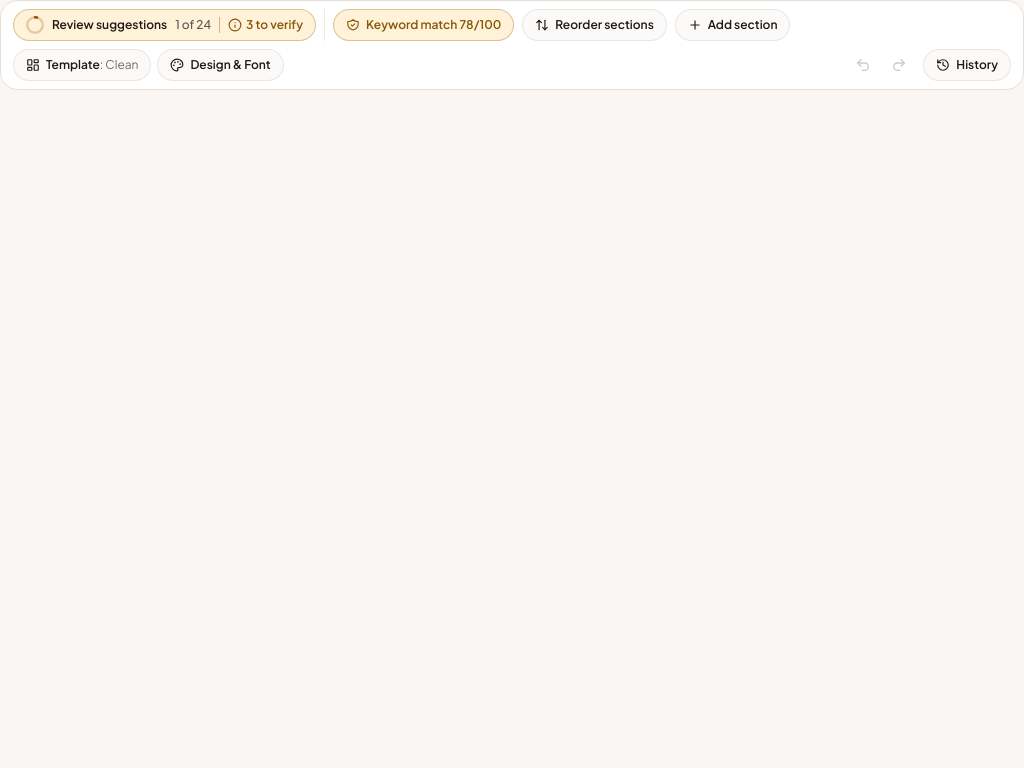
Scenario: EditorToolbar › once scored › opens the details instead of running the score again
Click the button "Keyword match 78/100" at (424, 25), box 333,9 -> 514,41
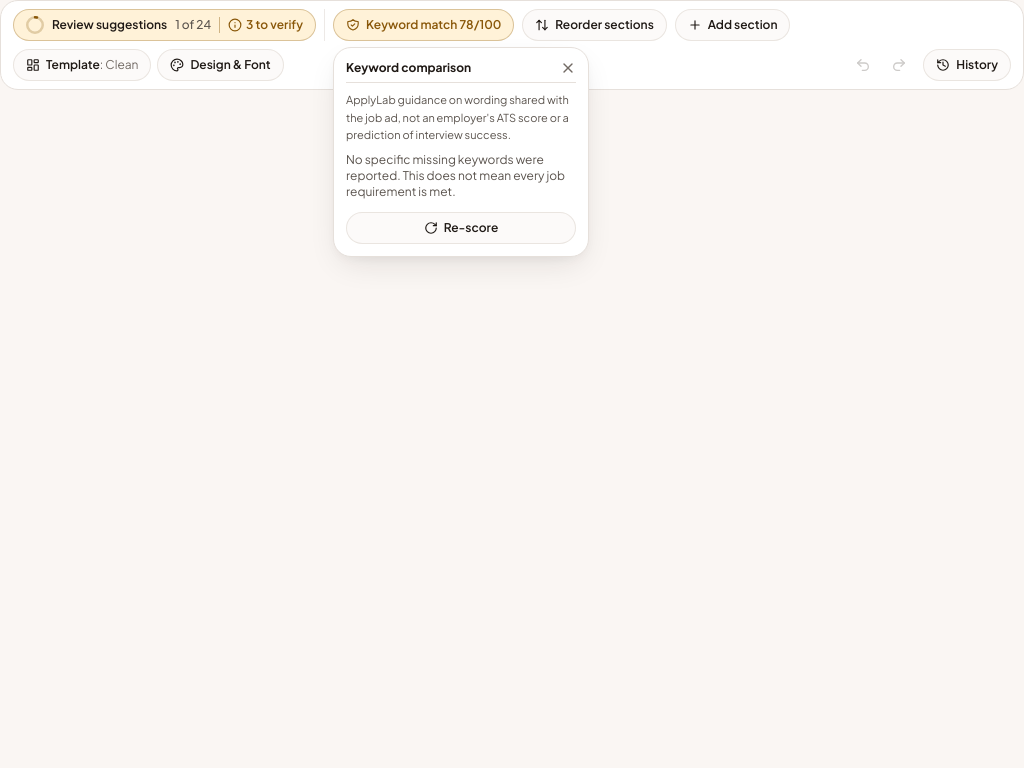
expect the dialog "Keyword comparison" is shown: met, box 333,47 -> 589,257
